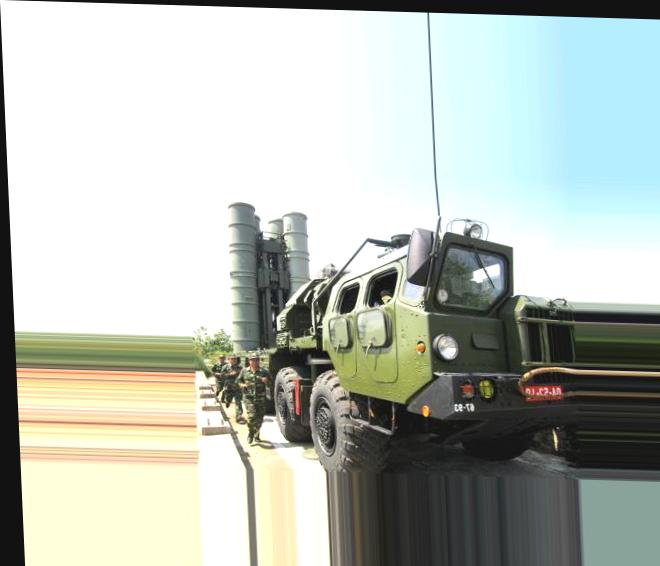License_Plate: (520, 386, 562, 407)
